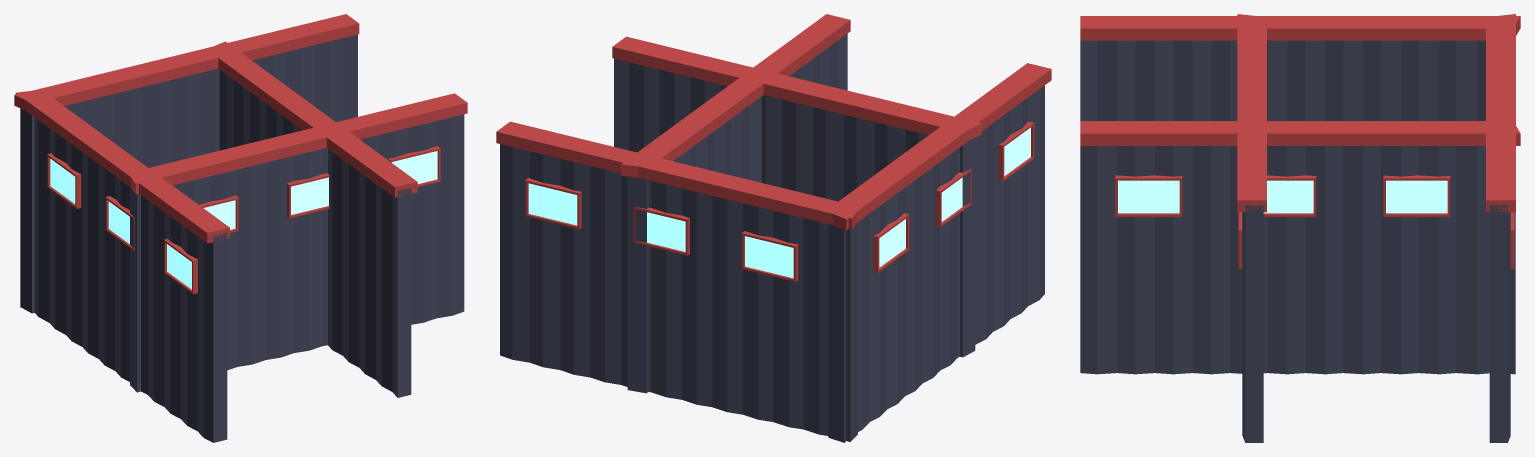
Rendered from warehouseL.fbx.
The picture shows the model from 3 angles, left to right: view 1: azimuth 30°, elevation 25°; view 2: azimuth 150°, elevation 25°; view 3: azimuth 270°, elevation 25°; orthographic projection. The views are drawn at different scales.
Visible parts, largest first — view 1: WarehouseBigWall, WarehouseBigWall.001, WarehouseAntiBigWall.001, WarehouseAntiBigWall; view 2: WarehouseAntiBigWall, WarehouseBigWall.001, WarehouseBigWall, WarehouseAntiBigWall.001; view 3: WarehouseAntiBigWall.001, WarehouseBigWall.001, WarehouseBigWall, WarehouseAntiBigWall.
Part boxes in pixels (box(x1,y1,x2,y2)): WarehouseBigWall: box(128, 93, 467, 392); WarehouseBigWall.001: box(15, 89, 229, 442); WarehouseAntiBigWall.001: box(206, 41, 417, 397); WarehouseAntiBigWall: box(14, 14, 359, 313); WarehouseAntiBigWall: box(496, 121, 857, 441); WarehouseBigWall.001: box(826, 63, 1051, 442); WarehouseBigWall: box(612, 36, 981, 357); WarehouseAntiBigWall.001: box(621, 14, 850, 393); WarehouseAntiBigWall.001: box(1080, 121, 1520, 374); WarehouseBigWall.001: box(1080, 16, 1520, 120); WarehouseBigWall: box(1237, 14, 1266, 442); WarehouseAntiBigWall: box(1486, 14, 1515, 442).
Bounding box in the file's own units: 329 × 200 × 329.
